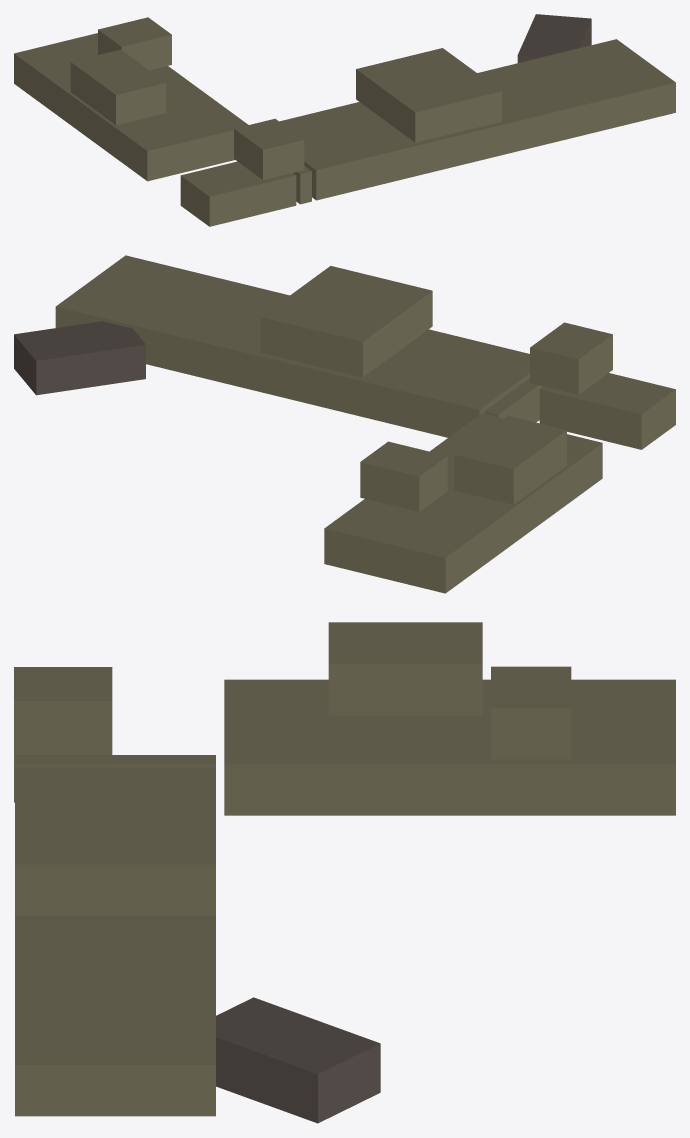
File: SM_PretilEsquinaPaso_v1_Talud_e2_MuyDanado_LOD1.fbx
The picture shows the model from 3 angles, top to bottom: view 1: azimuth 30°, elevation 25°; view 2: azimuth 150°, elevation 25°; view 3: azimuth 270°, elevation 25°; orthographic projection. The views are drawn at different scales.
Parts seen in each view (by area): view 1: SM_pretil_azotea_v46_LOD1; view 2: SM_pretil_azotea_v46_LOD1; view 3: SM_pretil_azotea_v46_LOD1.
Boxes of the visible parts, box(x1,y1,x2,y2) form: SM_pretil_azotea_v46_LOD1: box(14, 14, 675, 226); SM_pretil_azotea_v46_LOD1: box(14, 255, 675, 593); SM_pretil_azotea_v46_LOD1: box(14, 622, 675, 1123).
Size of the model in its own units: 4.41 by 0.585 by 3.17.
